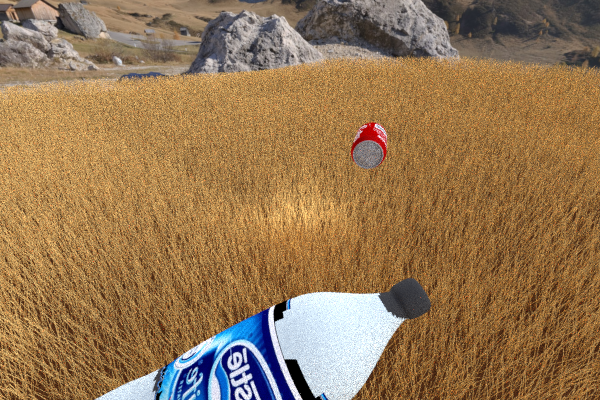bottle: (6, 278, 431, 400)
can: (60, 96, 117, 131), (350, 122, 386, 168)
